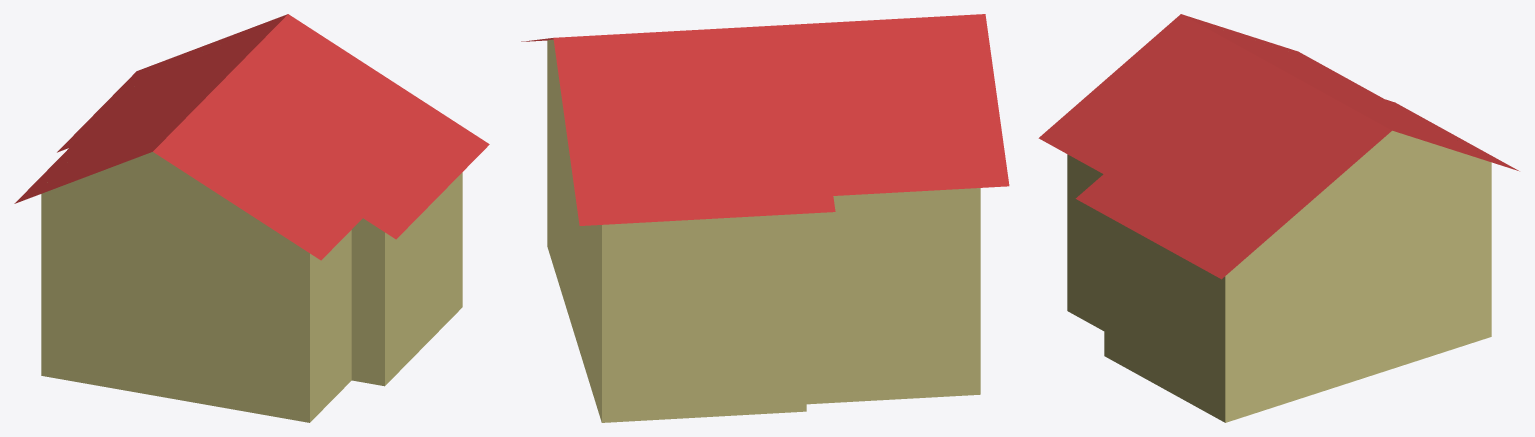
3 views of the same model, side by side, from view 1: azimuth 30°, elevation 25°; view 2: azimuth 150°, elevation 25°; view 3: azimuth 270°, elevation 25° (orthographic). The views are drawn at different scales.
Size of the model in its own units: 18.11 by 17.58 by 10.03.
